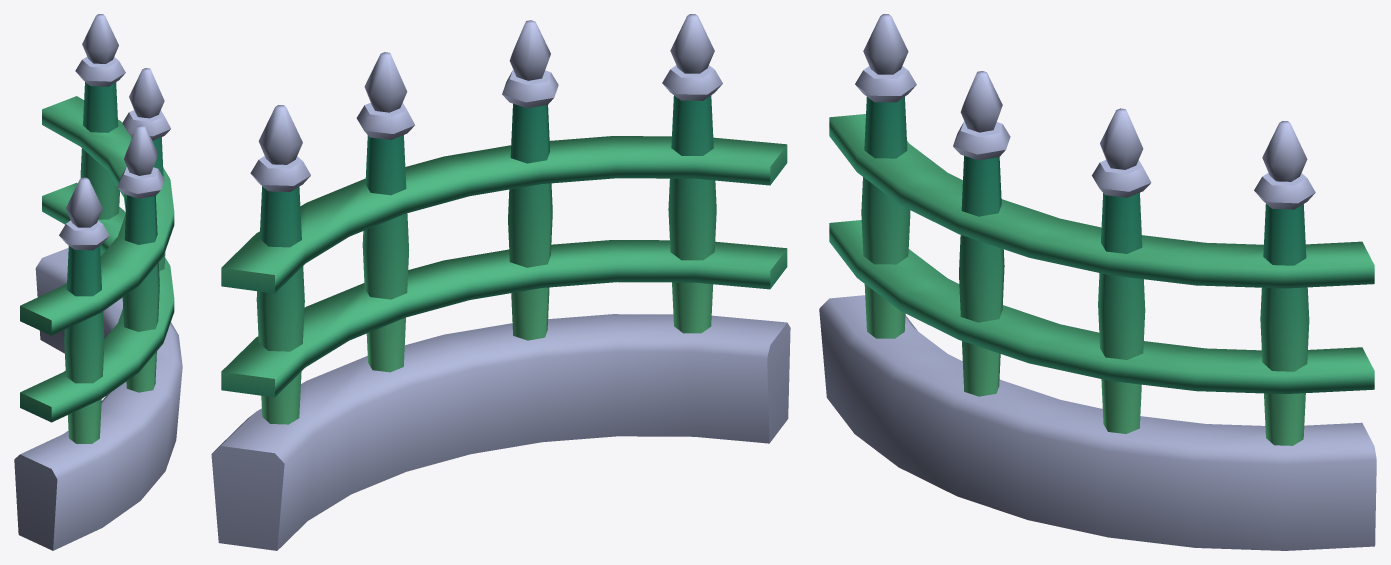
Rendered from iron-fence-border-curve.007_lev2.glb.
3 views of the same model, side by side, from view 1: azimuth 30°, elevation 25°; view 2: azimuth 150°, elevation 25°; view 3: azimuth 270°, elevation 25° (orthographic). The views are drawn at different scales.
Parts seen in each view (by area): view 1: iron-fence-border-curve.007_lev2; view 2: iron-fence-border-curve.007_lev2; view 3: iron-fence-border-curve.007_lev2.
Part boxes in pixels (x1,y1,x2,y2): iron-fence-border-curve.007_lev2: [14, 14, 182, 550]; iron-fence-border-curve.007_lev2: [211, 14, 790, 550]; iron-fence-border-curve.007_lev2: [819, 14, 1376, 550].
Size of the model in its own units: 5.92 by 7.03 by 8.57.
1 material, 1 textured.
